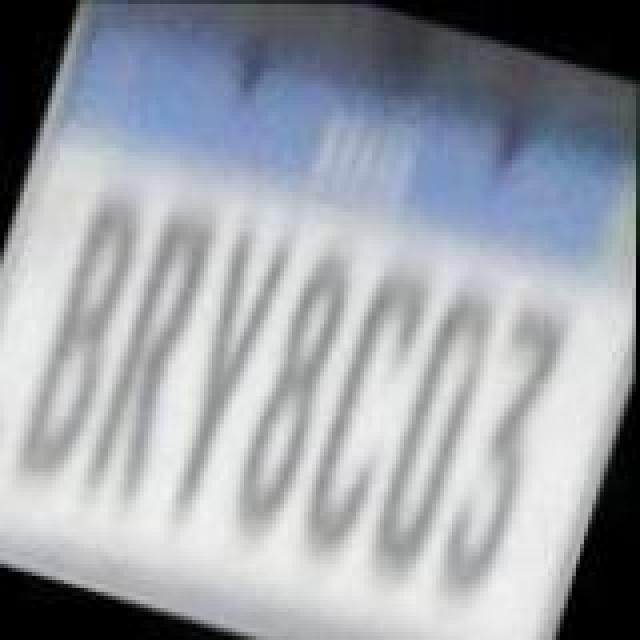3: (430, 292, 578, 616)
8: (220, 232, 368, 548)
B: (10, 184, 158, 496)
C: (286, 248, 438, 572)
D: (360, 278, 504, 594)
R: (76, 196, 228, 520)
Y: (152, 218, 304, 534)
